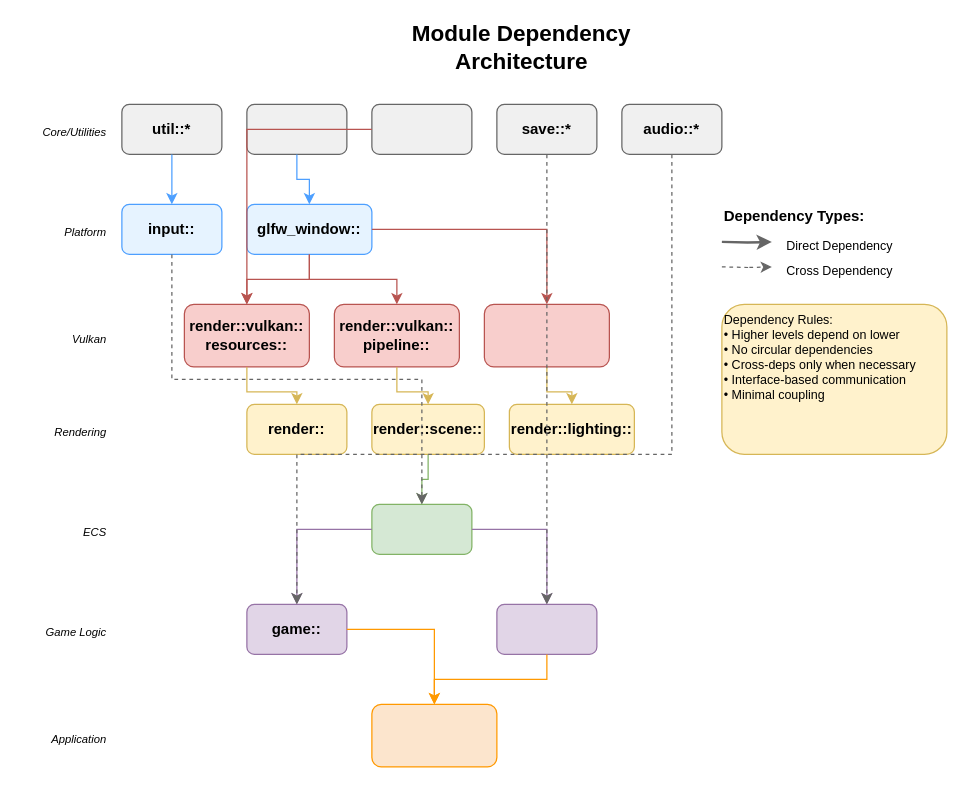
Image size: 969x789. Some labels were removed from this diagram. Here are the shapes that lost their labels. From the top down, the box of each, then its label:
(246, 103, 347, 154): config::*
(371, 103, 472, 154): assets::*
(483, 303, 609, 367): render::vulkan:: context::
(371, 503, 472, 554): ecs::
(496, 603, 597, 654): menu::
(371, 703, 497, 767): application::
